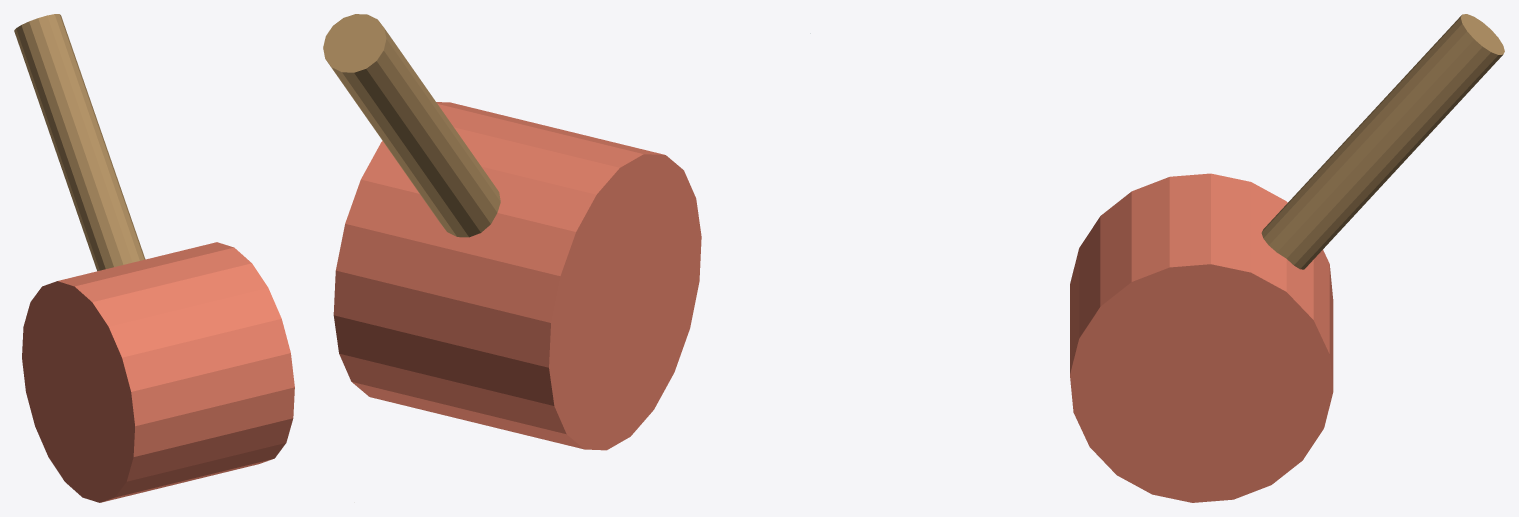
Rendered from mallet_6tou_3d.glb.
3 views of the same model, side by side, from view 1: azimuth 30°, elevation 25°; view 2: azimuth 150°, elevation 25°; view 3: azimuth 270°, elevation 25° (orthographic). The views are drawn at different scales.
Visible parts, largest first — view 1: mallet_head, mallet_handle; view 2: mallet_head, mallet_handle; view 3: mallet_head, mallet_handle.
Boxes of the visible parts, x1,y1,x2,y2 form: mallet_head: [22, 242, 294, 502]; mallet_handle: [14, 14, 145, 271]; mallet_head: [333, 102, 701, 450]; mallet_handle: [323, 14, 500, 237]; mallet_head: [1070, 173, 1333, 502]; mallet_handle: [1261, 14, 1504, 269].
Bounding box in the file's own units: 0.26 × 0.5881 × 0.8068.
Materials: 5 (2 with a texture image).
